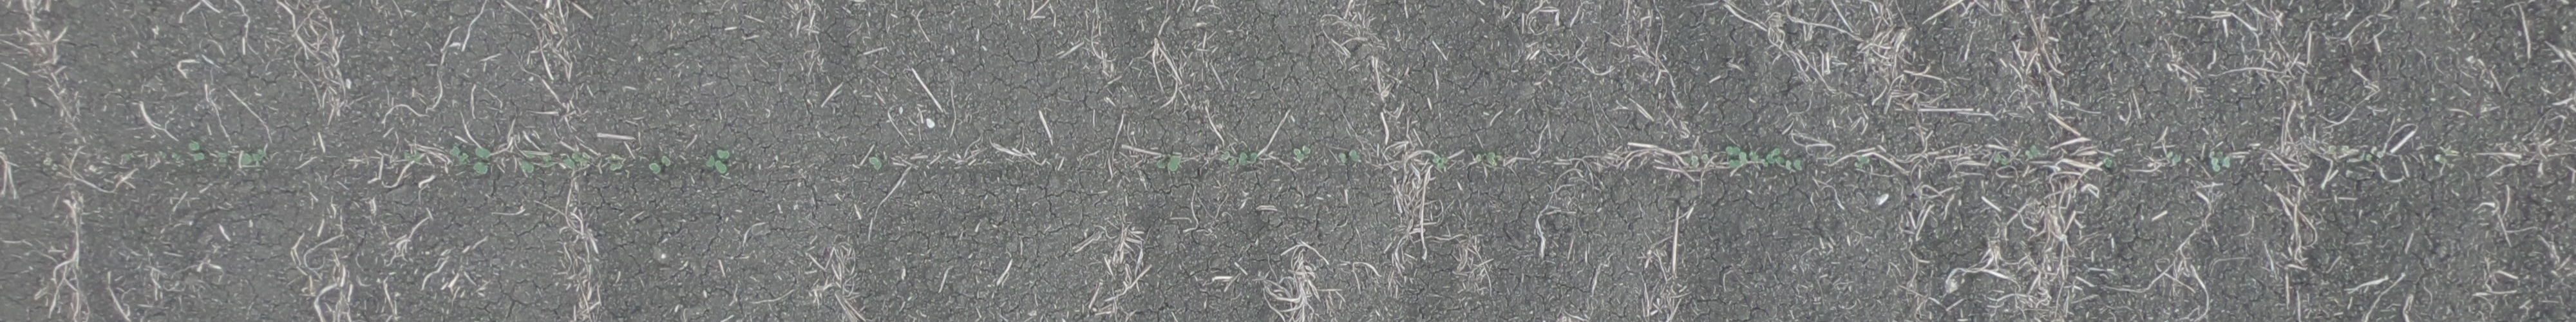clumped: (1727, 146, 1758, 168)
isolated: (647, 156, 672, 176), (711, 149, 729, 174), (517, 151, 537, 172), (475, 149, 491, 174), (1160, 154, 1180, 174), (189, 140, 205, 161), (1339, 149, 1362, 164), (450, 146, 470, 163), (606, 154, 626, 169), (1293, 146, 1309, 163), (1768, 149, 1784, 166), (1784, 158, 1802, 172), (1474, 153, 1497, 164), (1434, 153, 1449, 169), (1240, 153, 1255, 166)
